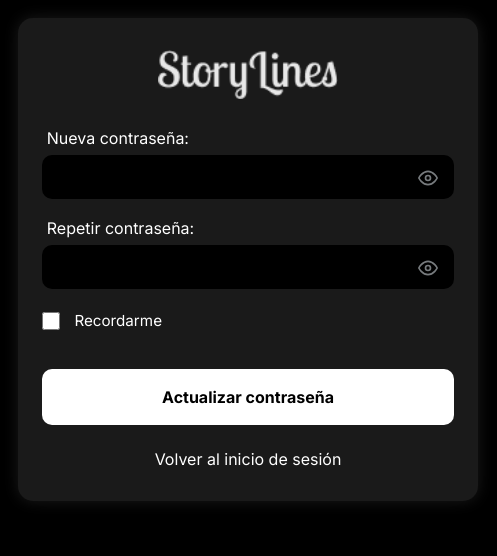
ResetPassword.vue › muestra error si las contraseñas no coinciden
The width and height of the screenshot is (497, 556).
Type "12345678" into the password field labelled "Nueva contraseña:" at (248, 177), box [42,155,454,199]
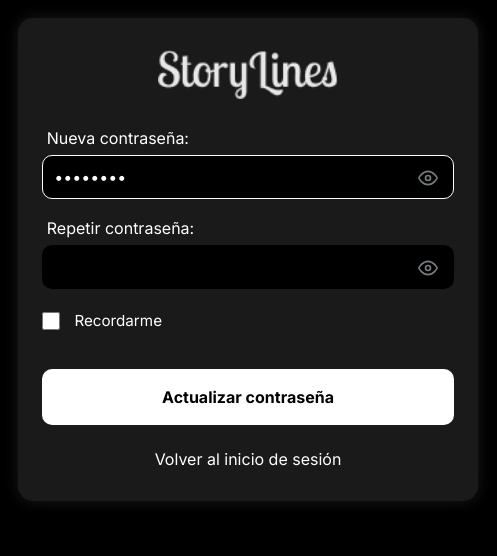
Type "99999999" into the password field labelled "Repetir contraseña:" at (248, 267), box [42,245,454,289]
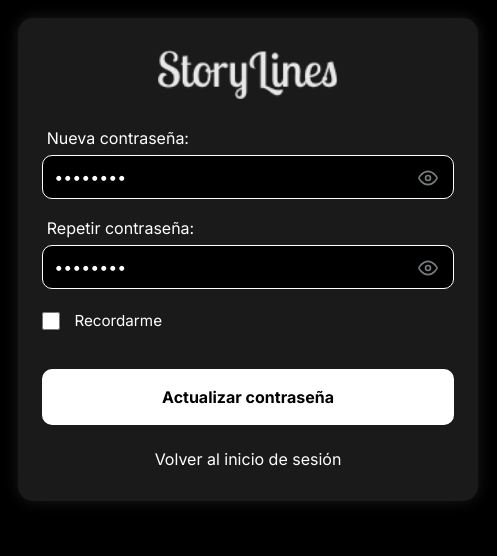
Submit the form, box [34,128,462,425]
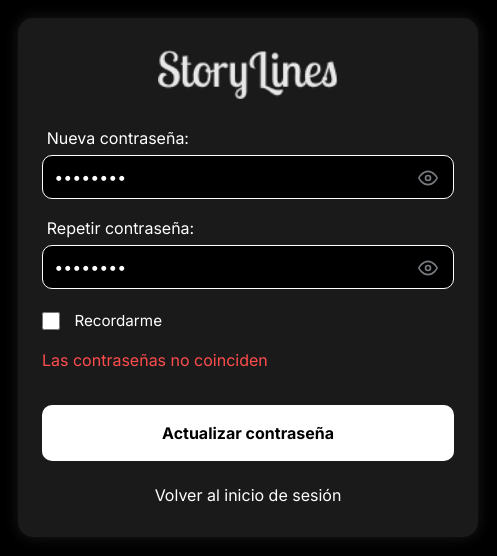
expect the text "Las contraseñas no coinciden" is shown: met, box [42,350,268,370]
